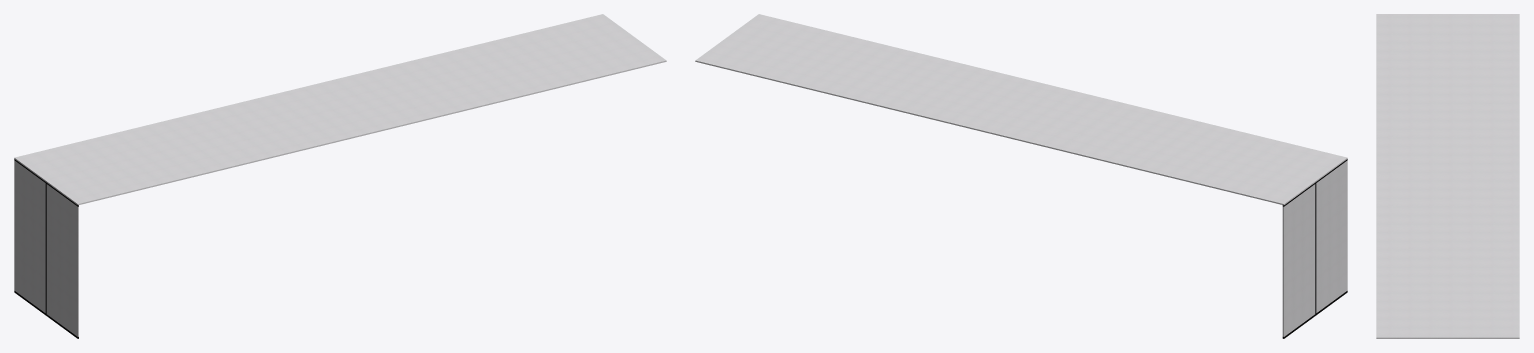
Rendered from rear-top-drywall.glb.
3 views of the same model, side by side, from view 1: azimuth 30°, elevation 25°; view 2: azimuth 150°, elevation 25°; view 3: azimuth 270°, elevation 25° (orthographic). The views are drawn at different scales.
Parts seen in each view (by area): view 1: Obj_40FT HC Blank_Drywall_Reartop, Obj_40FT HC Blank_Drywall_Reartop_7, Obj_40FT HC Blank_Drywall_Reartop_5, Obj_40FT HC Blank_Drywall_Reartop_6, Obj_40FT HC Blank_Drywall_Reartop_8, Obj_40FT HC Blank_Drywall_Reartop_4, Obj_40FT HC Blank_Drywall_Reartop_9, 40FT HC Blank_Drywall_Reartop, Obj_40FT HC Blank_Drywall_Reartop_1, Obj_40FT HC Blank_Drywall_Reartop_2, Obj_40FT HC Blank_Drywall_Reartop_3; view 2: Obj_40FT HC Blank_Drywall_Reartop, Obj_40FT HC Blank_Drywall_Reartop_7, Obj_40FT HC Blank_Drywall_Reartop_5, Obj_40FT HC Blank_Drywall_Reartop_6, Obj_40FT HC Blank_Drywall_Reartop_8, Obj_40FT HC Blank_Drywall_Reartop_4, Obj_40FT HC Blank_Drywall_Reartop_9, 40FT HC Blank_Drywall_Reartop, Obj_40FT HC Blank_Drywall_Reartop_2, Obj_40FT HC Blank_Drywall_Reartop_1, Obj_40FT HC Blank_Drywall_Reartop_3; view 3: 40FT HC Blank_Drywall_Reartop, Obj_40FT HC Blank_Drywall_Reartop, Obj_40FT HC Blank_Drywall_Reartop_4, Obj_40FT HC Blank_Drywall_Reartop_5, Obj_40FT HC Blank_Drywall_Reartop_6, Obj_40FT HC Blank_Drywall_Reartop_7, Obj_40FT HC Blank_Drywall_Reartop_8, Obj_40FT HC Blank_Drywall_Reartop_9.
Boxes of the visible parts, x1,y1,x2,y2 form: Obj_40FT HC Blank_Drywall_Reartop: [14, 139, 151, 205]; Obj_40FT HC Blank_Drywall_Reartop_7: [310, 67, 447, 133]; Obj_40FT HC Blank_Drywall_Reartop_5: [162, 103, 299, 169]; Obj_40FT HC Blank_Drywall_Reartop_6: [236, 85, 373, 150]; Obj_40FT HC Blank_Drywall_Reartop_8: [384, 49, 520, 115]; Obj_40FT HC Blank_Drywall_Reartop_4: [89, 121, 225, 187]; Obj_40FT HC Blank_Drywall_Reartop_9: [457, 31, 594, 97]; 40FT HC Blank_Drywall_Reartop: [531, 14, 666, 79]; Obj_40FT HC Blank_Drywall_Reartop_1: [46, 184, 78, 336]; Obj_40FT HC Blank_Drywall_Reartop_2: [14, 160, 45, 312]; Obj_40FT HC Blank_Drywall_Reartop_3: [14, 159, 78, 338]; Obj_40FT HC Blank_Drywall_Reartop: [1210, 139, 1347, 205]; Obj_40FT HC Blank_Drywall_Reartop_7: [914, 67, 1051, 133]; Obj_40FT HC Blank_Drywall_Reartop_5: [1062, 103, 1199, 169]; Obj_40FT HC Blank_Drywall_Reartop_6: [988, 85, 1125, 150]; Obj_40FT HC Blank_Drywall_Reartop_8: [841, 49, 977, 115]; Obj_40FT HC Blank_Drywall_Reartop_4: [1136, 121, 1272, 187]; Obj_40FT HC Blank_Drywall_Reartop_9: [767, 31, 904, 97]; 40FT HC Blank_Drywall_Reartop: [695, 14, 830, 79]; Obj_40FT HC Blank_Drywall_Reartop_2: [1282, 184, 1315, 336]; Obj_40FT HC Blank_Drywall_Reartop_1: [1316, 160, 1347, 312]; Obj_40FT HC Blank_Drywall_Reartop_3: [1282, 159, 1347, 338]; 40FT HC Blank_Drywall_Reartop: [1376, 297, 1519, 338]; Obj_40FT HC Blank_Drywall_Reartop: [1376, 14, 1519, 54]; Obj_40FT HC Blank_Drywall_Reartop_4: [1376, 54, 1519, 94]; Obj_40FT HC Blank_Drywall_Reartop_5: [1376, 95, 1519, 135]; Obj_40FT HC Blank_Drywall_Reartop_6: [1376, 136, 1519, 176]; Obj_40FT HC Blank_Drywall_Reartop_7: [1376, 176, 1519, 216]; Obj_40FT HC Blank_Drywall_Reartop_8: [1376, 217, 1519, 257]; Obj_40FT HC Blank_Drywall_Reartop_9: [1376, 257, 1519, 297].
Bounding box in the file's own units: 11.9 × 2.61 × 2.22.
2 materials, 1 textured.
